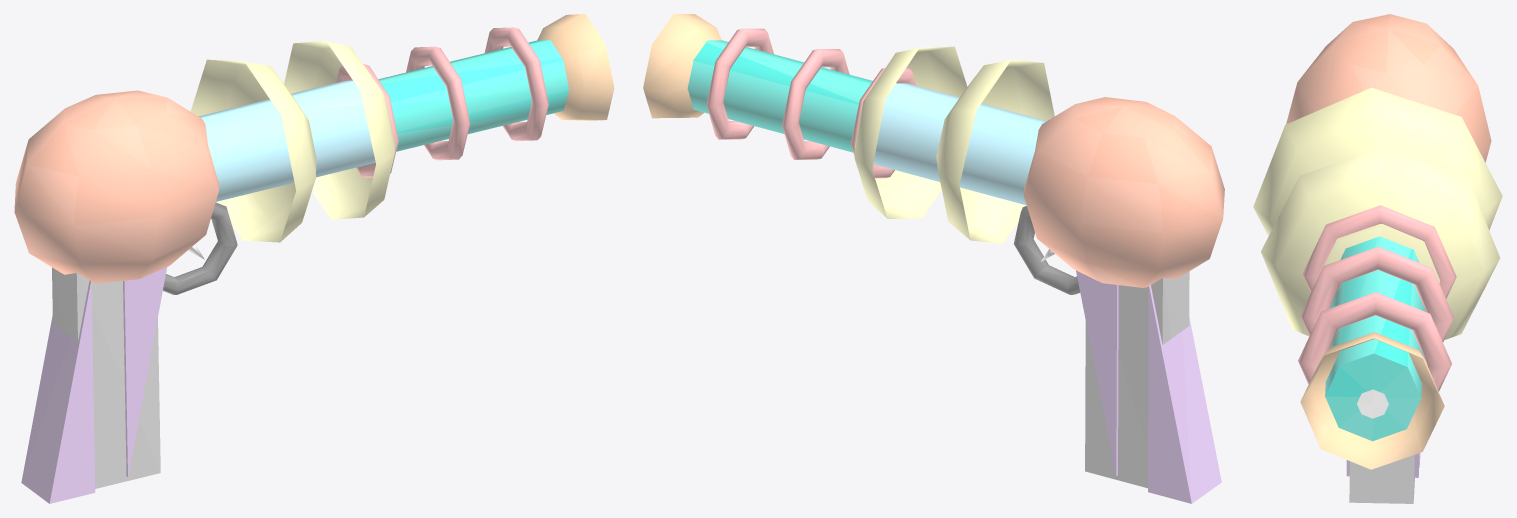
Rendered from raygun.glb.
The picture shows the model from 3 angles, left to right: view 1: azimuth 30°, elevation 25°; view 2: azimuth 150°, elevation 25°; view 3: azimuth 270°, elevation 25°; orthographic projection. The views are drawn at different scales.
Bounding box in the file's own units: 2.51 × 1.63 × 0.7764.
